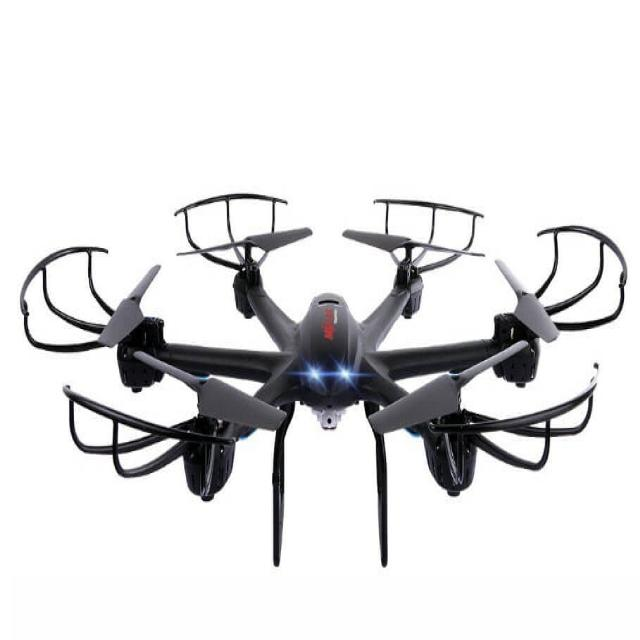drone: (8, 167, 640, 567)
